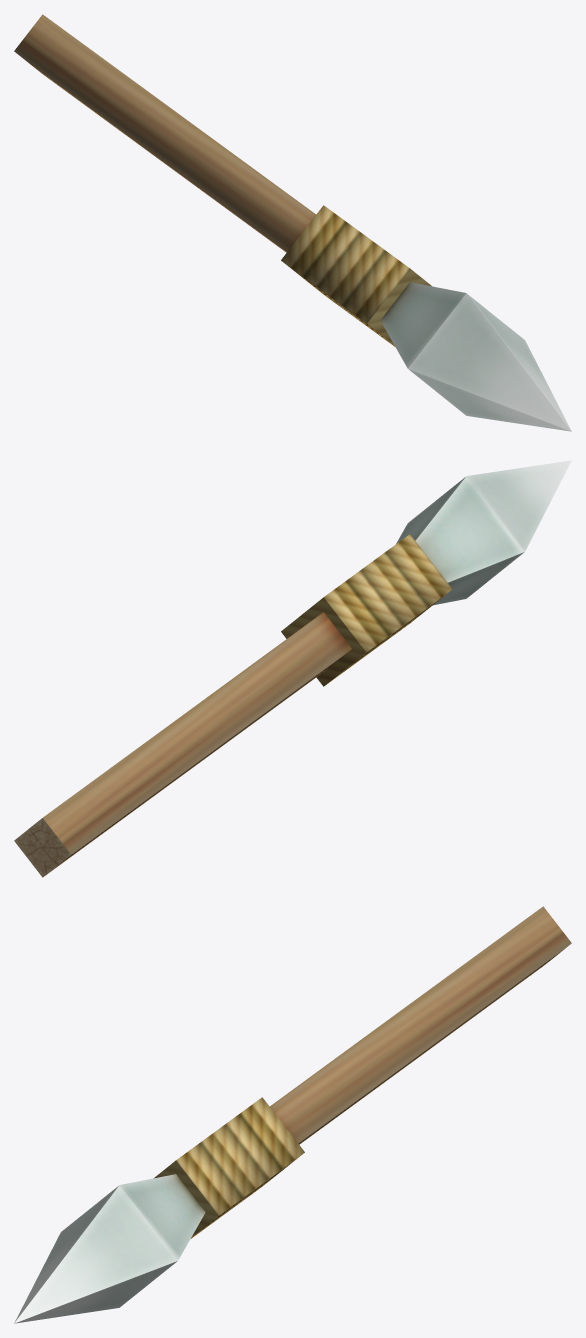
Rendered from BallistaArrow.FBX.
3 views of the same model, one above another, from view 1: azimuth 30°, elevation 25°; view 2: azimuth 150°, elevation 25°; view 3: azimuth 330°, elevation 25° (orthographic).
Parts seen in each view (by area): view 1: BallistaArrow; view 2: BallistaArrow; view 3: BallistaArrow.
Part boxes in pixels (x1,y1,x2,y2): BallistaArrow: (14,14,571,431); BallistaArrow: (14,460,571,877); BallistaArrow: (14,906,571,1323).
Size of the model in its own units: 51.54 by 51.54 by 403.
